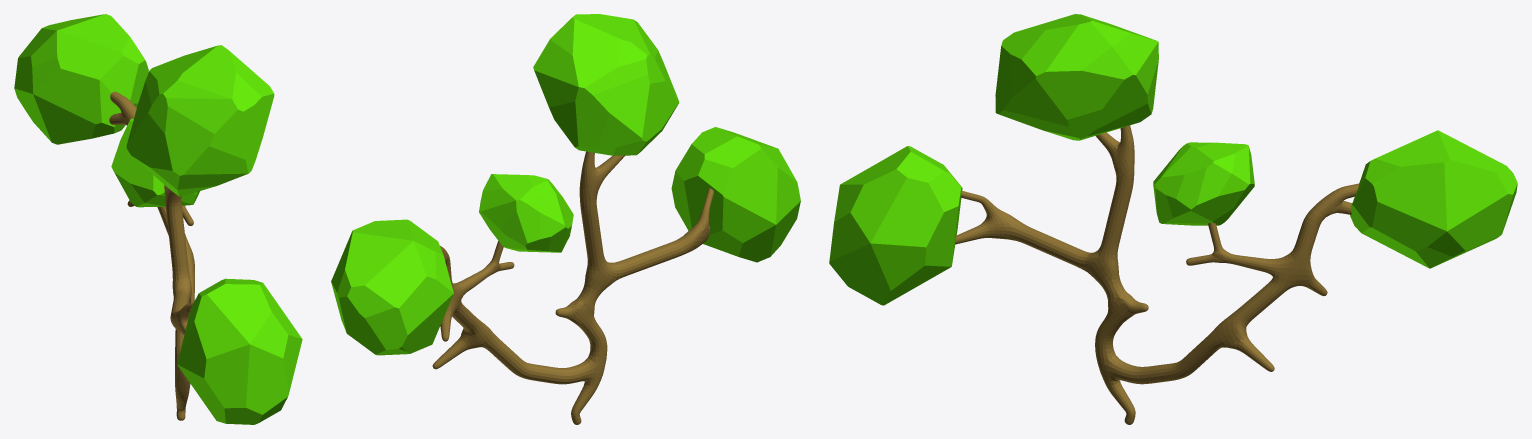
Rendered from arbol (2).fbx.
The picture shows the model from 3 angles, left to right: view 1: azimuth 30°, elevation 25°; view 2: azimuth 150°, elevation 25°; view 3: azimuth 270°, elevation 25°; orthographic projection. The views are drawn at different scales.
Parts seen in each view (by area): view 1: Vert; view 2: Vert; view 3: Vert.
Boxes of the visible parts, <box> form: Vert: <box>14,14,302,424</box>; Vert: <box>331,14,800,424</box>; Vert: <box>829,14,1517,424</box>.
Bounding box in the file's own units: 758 × 1415 × 2130.
